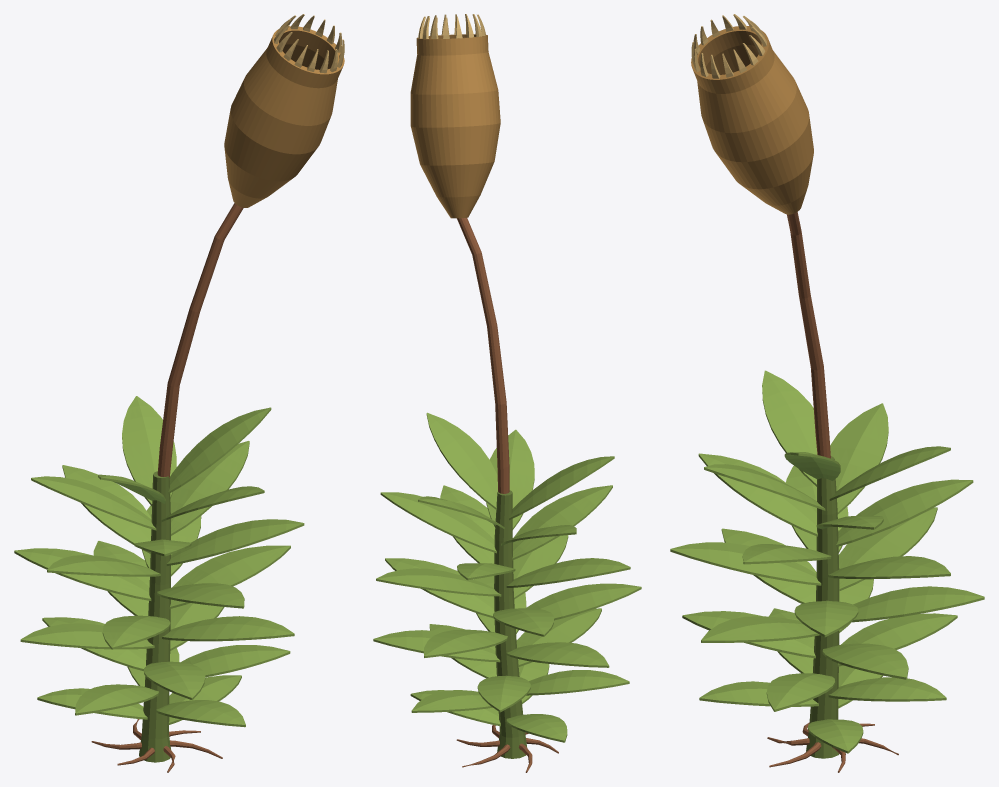
The picture shows the model from 3 angles, left to right: view 1: azimuth 30°, elevation 25°; view 2: azimuth 150°, elevation 25°; view 3: azimuth 270°, elevation 25°; orthographic projection. The views are drawn at different scales.
Visible parts, largest first — view 1: WholeOpenOvoidCapsule, WholeLeafyMossStem, WholeCurvedLeaflessSeta, WholeSessileSpiralLeaf_25, WholeSessileSpiralLeaf_14, WholeSessileSpiralLeaf_22, WholeSessileSpiralLeaf_27, WholeSessileSpiralLeaf_19, WholeSessileSpiralLeaf_11, WholeSessileSpiralLeaf_23, WholeSessileSpiralLeaf_15, WholeSessileSpiralLeaf_20 (+17 smaller); view 2: WholeOpenOvoidCapsule, WholeLeafyMossStem, WholeCurvedLeaflessSeta, WholeSessileSpiralLeaf_27, WholeSessileSpiralLeaf_21, WholeSessileSpiralLeaf_22, WholeSessileSpiralLeaf_13, WholeSessileSpiralLeaf_17, WholeSessileSpiralLeaf_18, WholeSessileSpiralLeaf_24, WholeSessileSpiralLeaf_10, WholeSessileSpiralLeaf_05 (+18 smaller); view 3: WholeOpenOvoidCapsule, WholeLeafyMossStem, WholeSessileSpiralLeaf_23, WholeCurvedLeaflessSeta, WholeSessileSpiralLeaf_26, WholeSessileSpiralLeaf_20, WholeSessileSpiralLeaf_12, WholeSessileSpiralLeaf_15, WholeSessileSpiralLeaf_16, WholeSessileSpiralLeaf_21, WholeSessileSpiralLeaf_07, WholeSessileSpiralLeaf_11 (+18 smaller).
Boxes of the visible parts, x1=… form: WholeOpenOvoidCapsule: x1=224, y1=26, x2=344, y2=207; WholeLeafyMossStem: x1=139, y1=471, x2=170, y2=762; WholeCurvedLeaflessSeta: x1=157, y1=203, x2=243, y2=477; WholeSessileSpiralLeaf_25: x1=122, y1=396, x2=176, y2=506; WholeSessileSpiralLeaf_14: x1=169, y1=545, x2=290, y2=608; WholeSessileSpiralLeaf_22: x1=170, y1=441, x2=249, y2=535; WholeSessileSpiralLeaf_27: x1=168, y1=407, x2=271, y2=494; WholeSessileSpiralLeaf_19: x1=166, y1=519, x2=304, y2=565; WholeSessileSpiralLeaf_11: x1=162, y1=616, x2=294, y2=641; WholeSessileSpiralLeaf_23: x1=31, y1=476, x2=156, y2=530; WholeSessileSpiralLeaf_15: x1=14, y1=548, x2=151, y2=600; WholeSessileSpiralLeaf_20: x1=62, y1=465, x2=151, y2=553; WholeOpenOvoidCapsule: x1=410, y1=34, x2=500, y2=218; WholeLeafyMossStem: x1=494, y1=490, x2=527, y2=758; WholeCurvedLeaflessSeta: x1=457, y1=218, x2=509, y2=493; WholeSessileSpiralLeaf_27: x1=426, y1=412, x2=497, y2=509; WholeSessileSpiralLeaf_21: x1=512, y1=485, x2=612, y2=560; WholeSessileSpiralLeaf_22: x1=380, y1=492, x2=496, y2=553; WholeSessileSpiralLeaf_13: x1=513, y1=583, x2=641, y2=628; WholeSessileSpiralLeaf_17: x1=376, y1=568, x2=501, y2=596; WholeSessileSpiralLeaf_18: x1=506, y1=558, x2=630, y2=587; WholeSessileSpiralLeaf_24: x1=486, y1=429, x2=534, y2=529; WholeSessileSpiralLeaf_10: x1=506, y1=642, x2=609, y2=667; WholeSessileSpiralLeaf_05: x1=526, y1=670, x2=629, y2=695; WholeOpenOvoidCapsule: x1=691, y1=26, x2=813, y2=214; WholeLeafyMossStem: x1=806, y1=456, x2=839, y2=758; WholeSessileSpiralLeaf_23: x1=830, y1=403, x2=888, y2=514; WholeCurvedLeaflessSeta: x1=787, y1=212, x2=830, y2=458; WholeSessileSpiralLeaf_26: x1=762, y1=370, x2=830, y2=486; WholeSessileSpiralLeaf_20: x1=836, y1=479, x2=973, y2=547; WholeSessileSpiralLeaf_12: x1=851, y1=586, x2=984, y2=622; WholeSessileSpiralLeaf_15: x1=839, y1=507, x2=937, y2=591; WholeSessileSpiralLeaf_16: x1=670, y1=542, x2=821, y2=585; WholeSessileSpiralLeaf_21: x1=698, y1=453, x2=817, y2=536; WholeSessileSpiralLeaf_07: x1=837, y1=613, x2=957, y2=666; WholeSessileSpiralLeaf_11: x1=701, y1=616, x2=820, y2=642.
Bounding box in the file's own units: 0.0509 × 0.138 × 0.0501.
